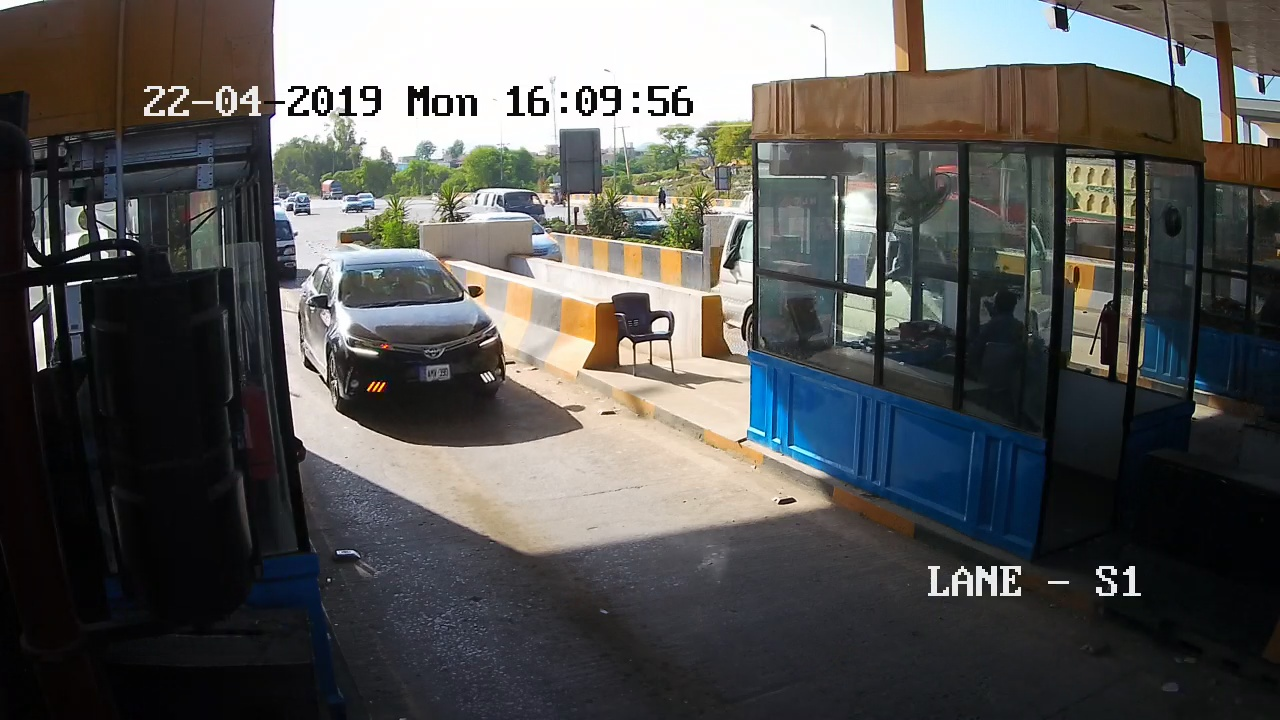Number Plate (Car): (419, 365, 451, 382)
